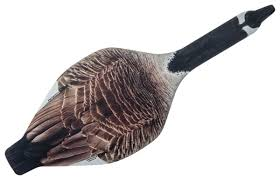goose: (3, 3, 276, 178)
